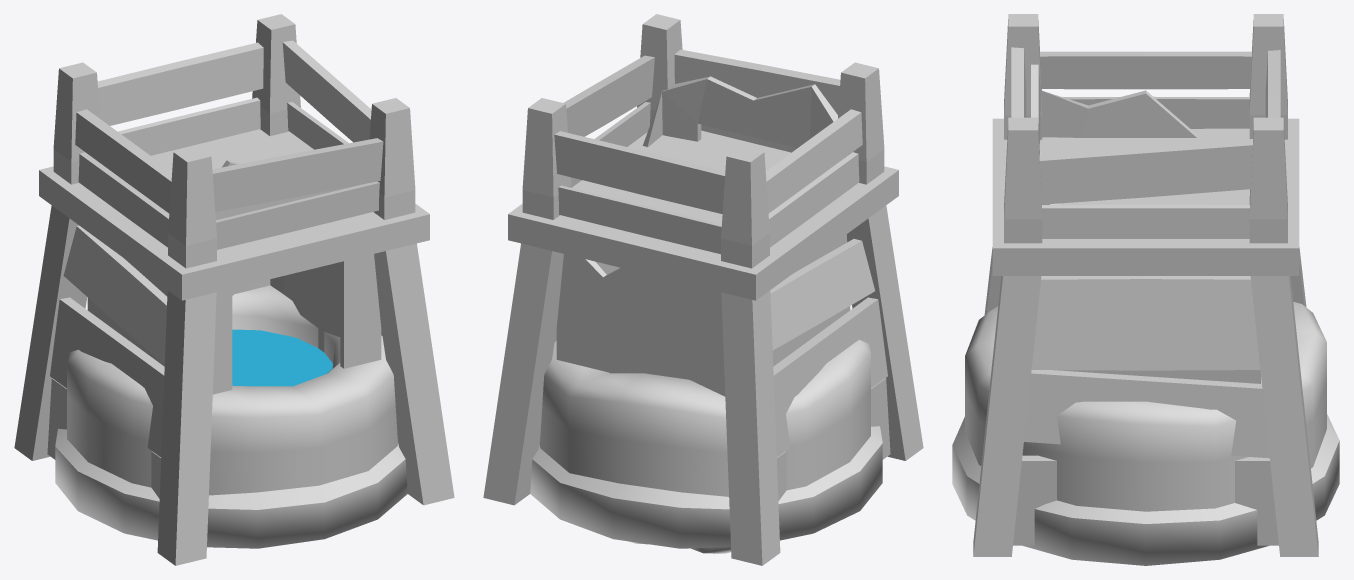
Rendered from Structures.fbx.
3 renders of one model, left to right at view 1: azimuth 30°, elevation 25°; view 2: azimuth 150°, elevation 25°; view 3: azimuth 270°, elevation 25°, orthographic. The views are drawn at different scales.
Visible parts, largest first — view 1: Tower, Well, Rabbit Hole; view 2: Tower, Well, Rabbit Hole; view 3: Tower, Well, Rabbit Hole.
Part boxes in pixels (box(x1,y1,x2,y2)): Tower: box(14, 14, 454, 565); Well: box(55, 285, 407, 548); Rabbit Hole: box(87, 160, 381, 394); Tower: box(483, 14, 923, 565); Well: box(530, 340, 882, 548); Rabbit Hole: box(556, 76, 850, 396); Tower: box(973, 14, 1318, 556); Well: box(952, 302, 1339, 565); Rabbit Hole: box(1031, 64, 1260, 383).
Bounding box in the file's own units: 253 × 320 × 253.
